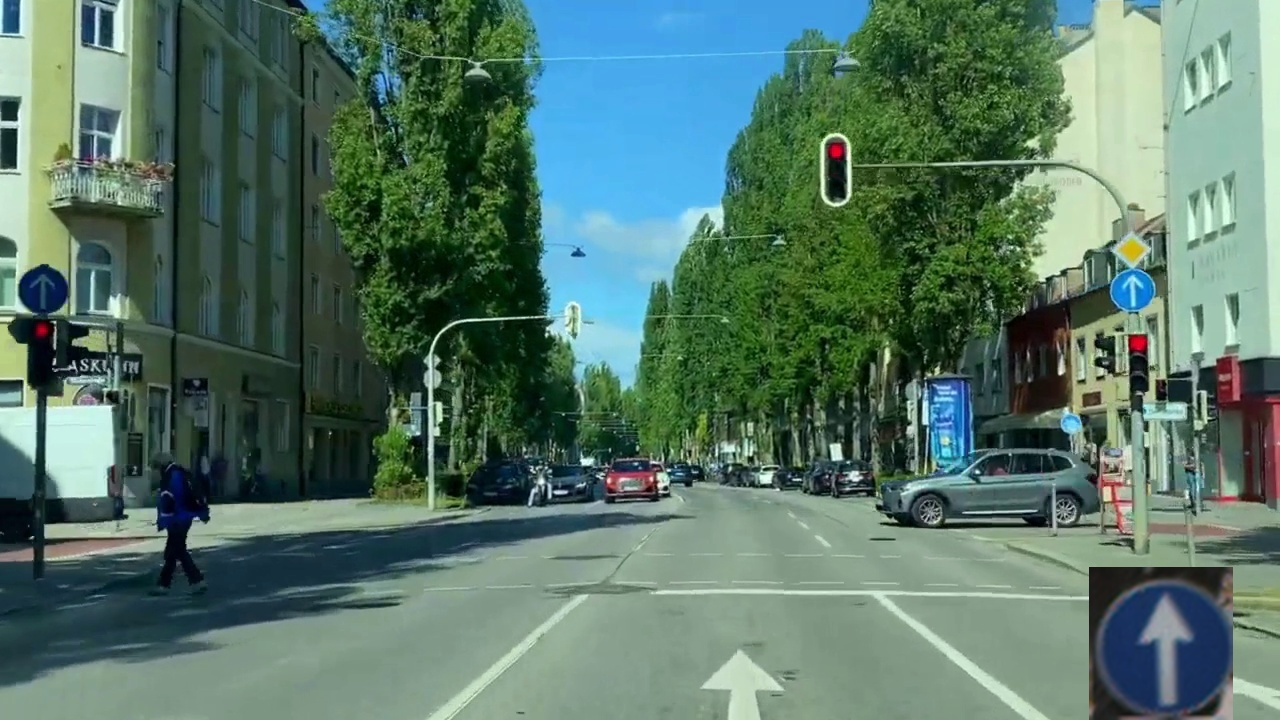Ahead only: (1089, 567, 1233, 720)
